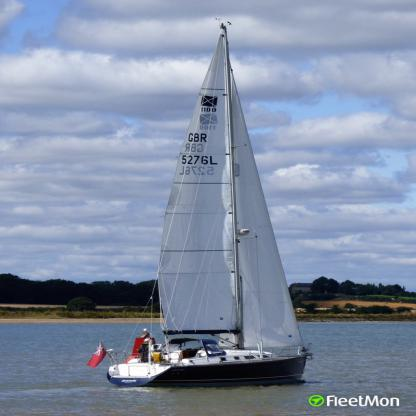Sails Boat: (87, 18, 317, 386)
